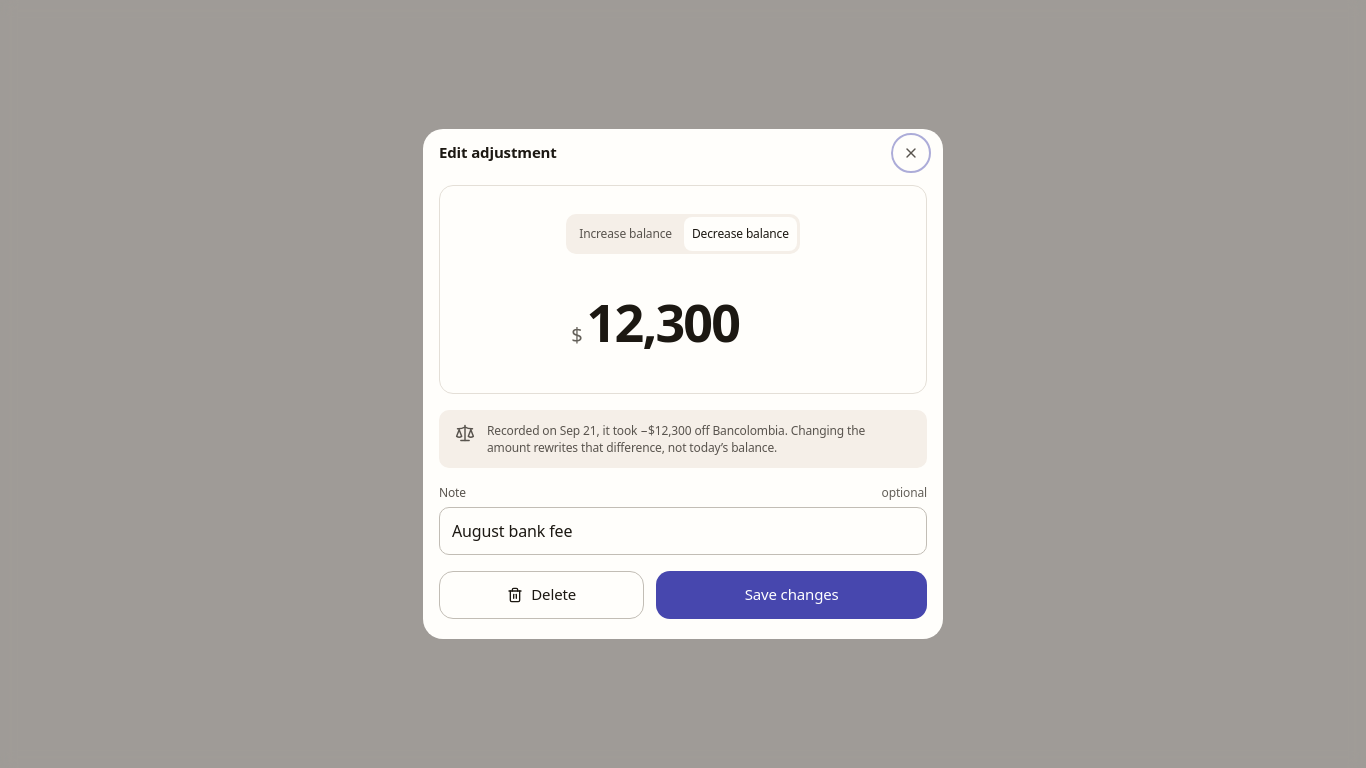
AdjustBalanceSheet, editing one › asks about its own amount, says what it did, and sends only the change
Check: the dialog "Edit adjustment" is shown, box [423, 129, 943, 639]
Check: the button "Decrease balance" is shown, box [684, 217, 797, 251]
Clear the field named "Amount": [691, 321] box [586, 286, 795, 357]
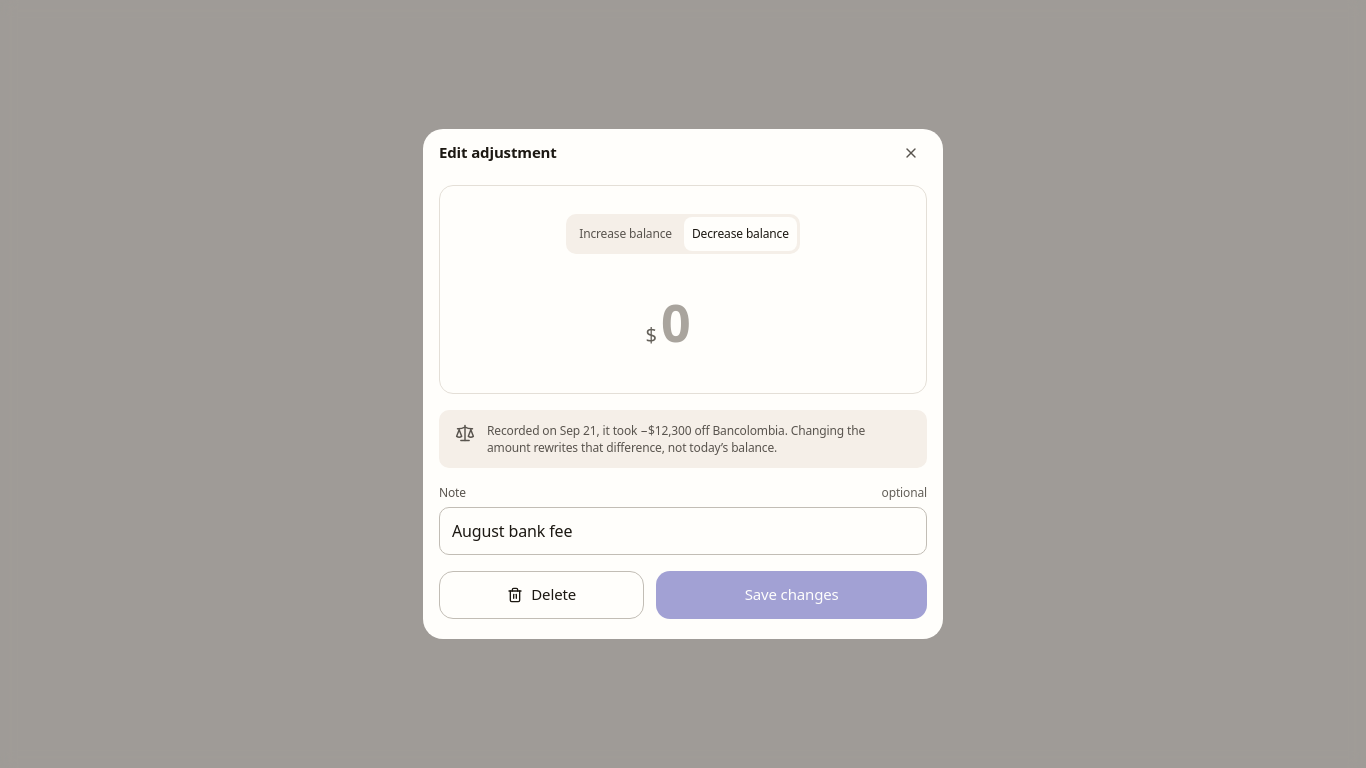
In the field named "Amount": [691, 321] box [661, 286, 720, 357], type "9000"
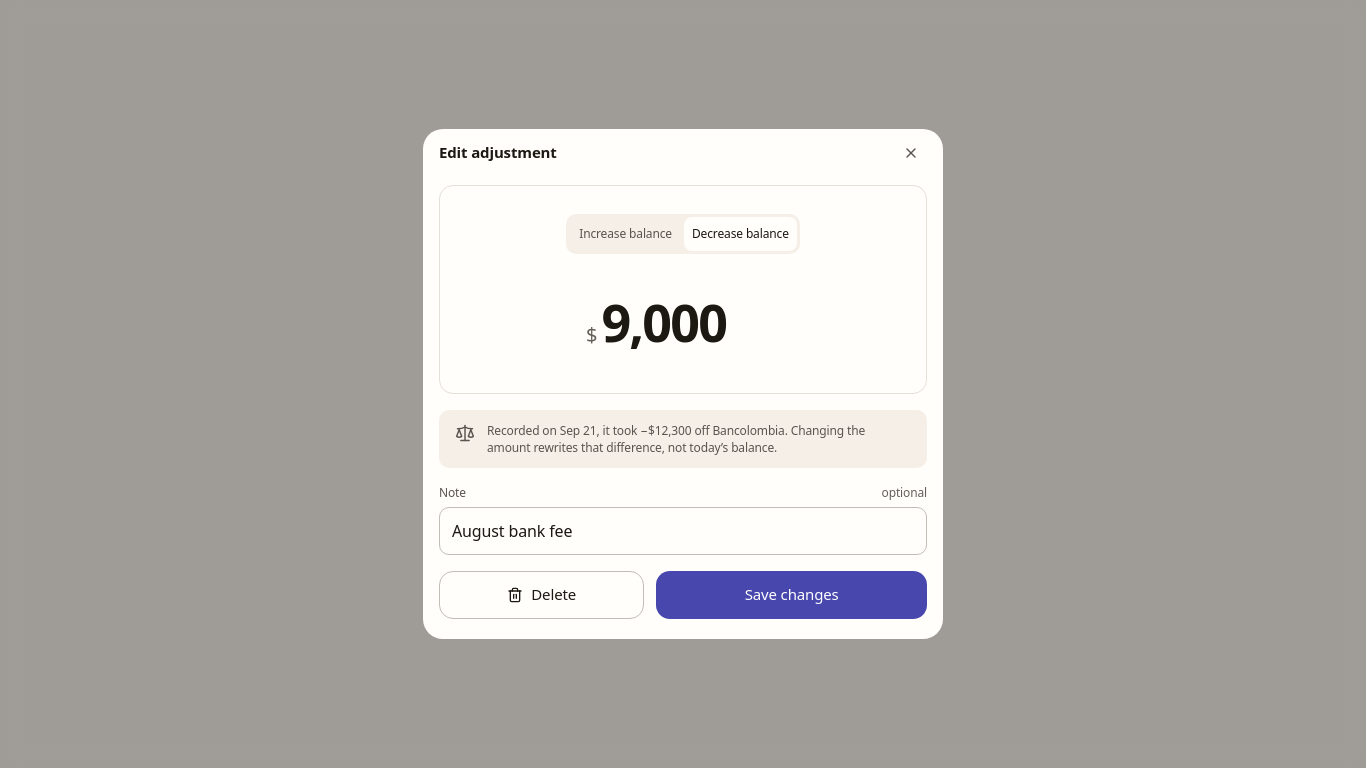
Click the 2nd button named "Save changes": [792, 595] box [656, 571, 927, 619]
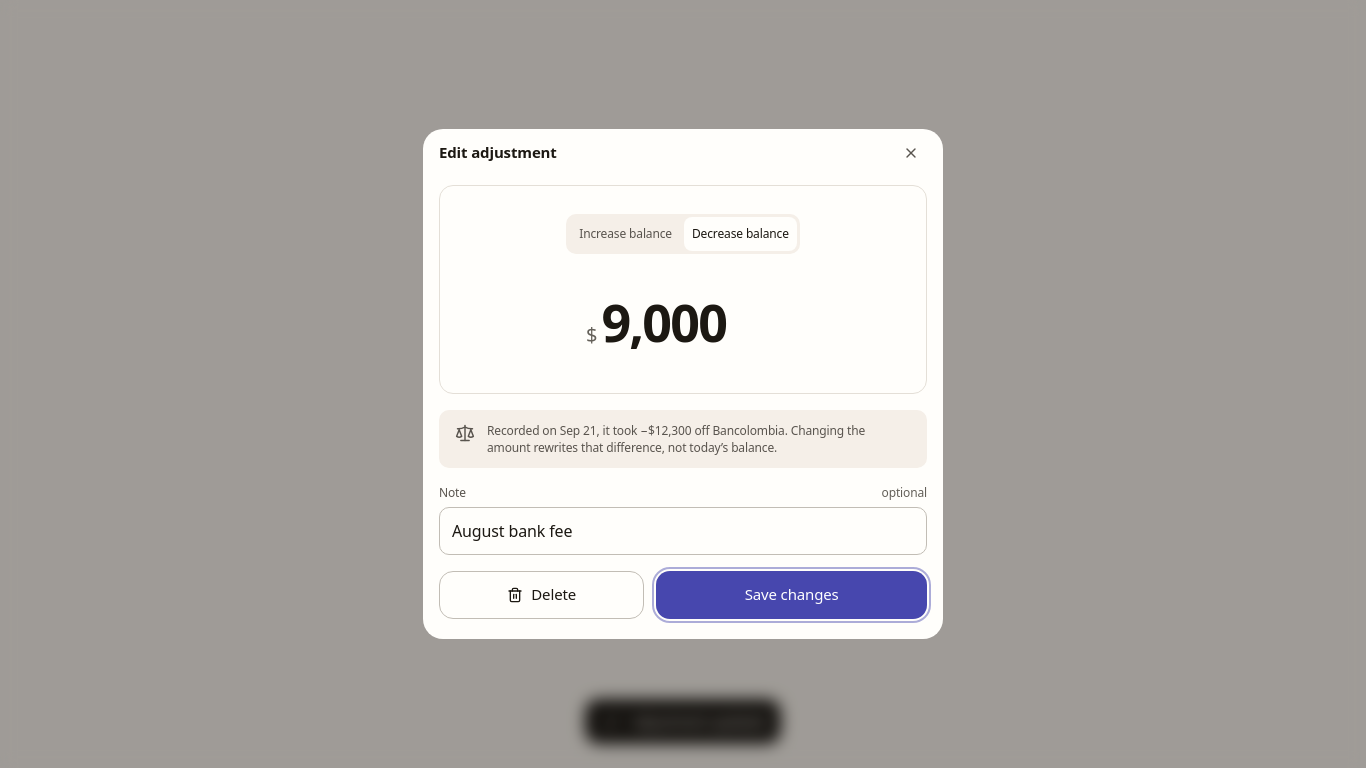
Check: the text "Adjustment updated" is shown, box [585, 699, 781, 744]
